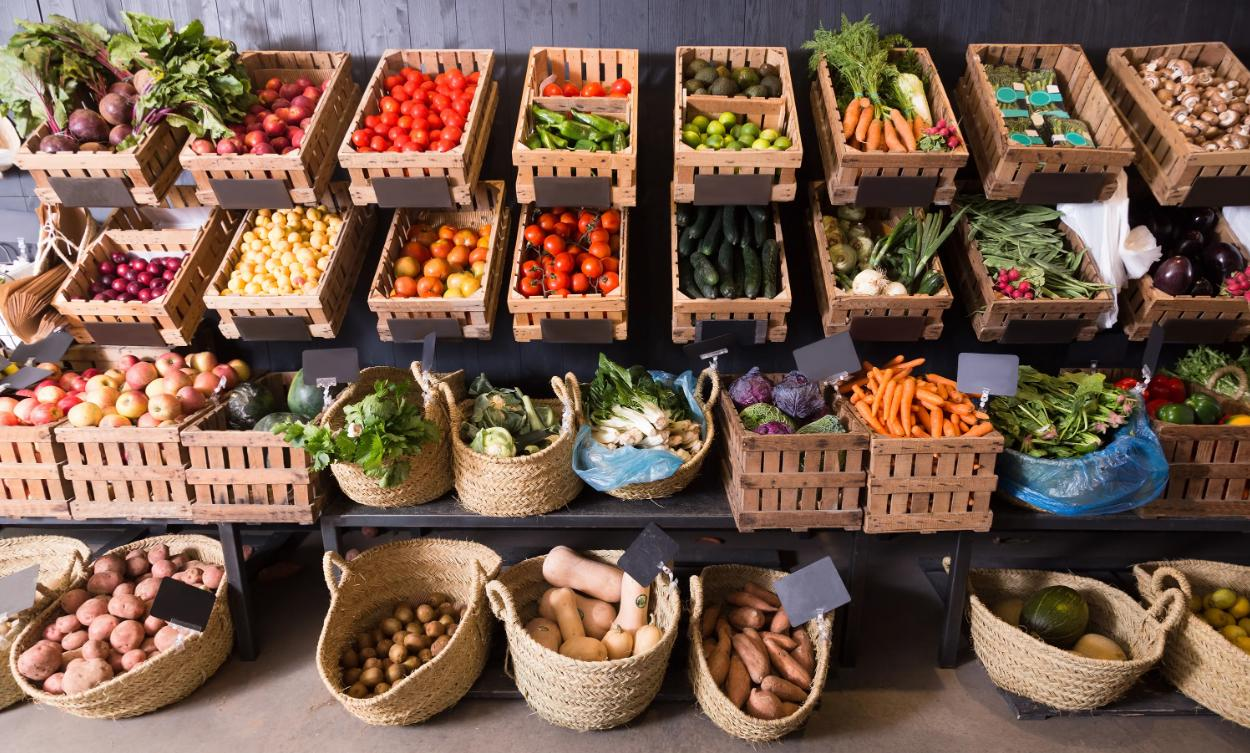beet: (44, 72, 168, 160)
butternut squash: (519, 541, 667, 676)
carrot: (836, 351, 998, 438), (836, 85, 919, 152)
cucumber: (674, 208, 783, 301)
eggplant: (1134, 202, 1244, 301)
potato: (26, 542, 226, 704), (336, 597, 471, 702)
red apple: (73, 354, 245, 427), (0, 360, 103, 426)
sweet pepper: (1113, 374, 1250, 425)
tomato: (514, 205, 626, 308), (352, 72, 486, 156), (388, 218, 502, 300), (529, 72, 631, 95)
